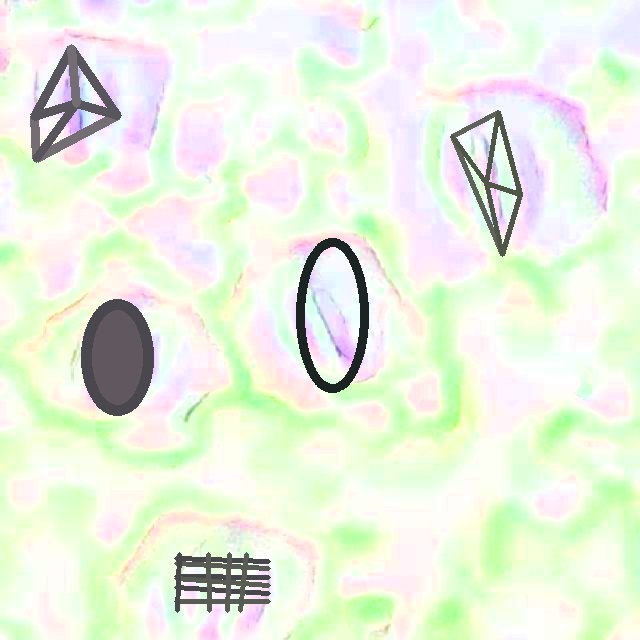open: (296, 236, 369, 394), (30, 44, 121, 162), (450, 111, 521, 255), (81, 298, 153, 416), (174, 552, 269, 611)
